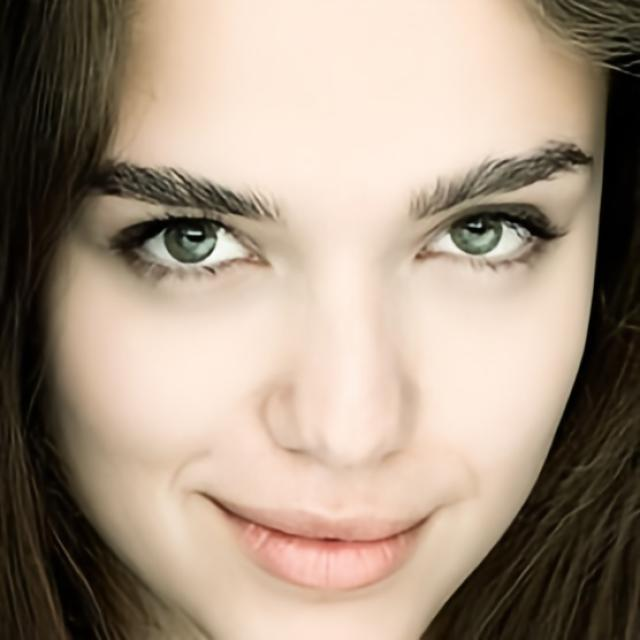content: (44, 0, 610, 640)
